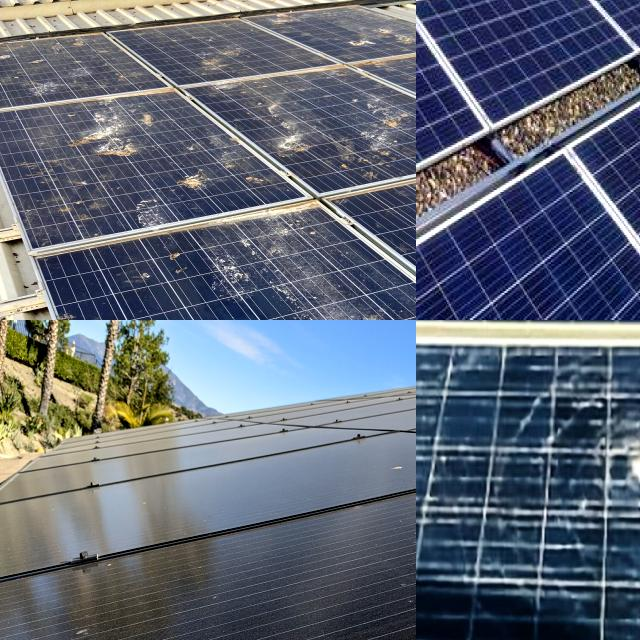bird: (52, 105, 193, 163), (152, 162, 252, 204), (361, 90, 416, 157), (186, 31, 249, 84), (269, 86, 302, 162)
crack: (416, 86, 640, 227), (416, 43, 575, 222), (416, 198, 640, 320)
hotspot: (603, 397, 640, 526)
